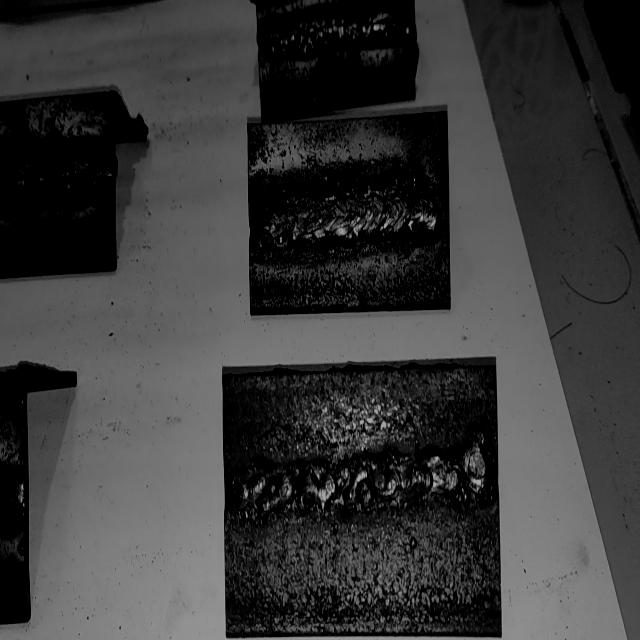Bad Weld: (265, 8, 410, 52), (0, 150, 116, 205)
Defect: (0, 147, 111, 201), (262, 3, 363, 61)
Good Weld: (226, 451, 498, 516), (249, 191, 442, 249)
